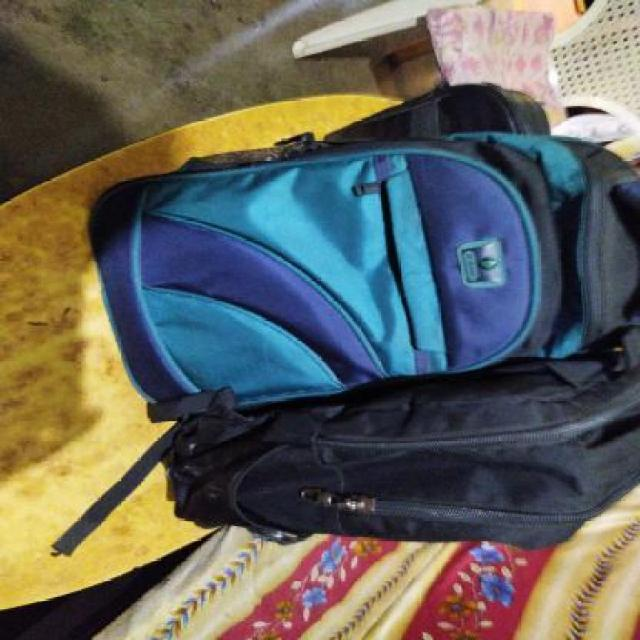backpack: (77, 71, 640, 554)
